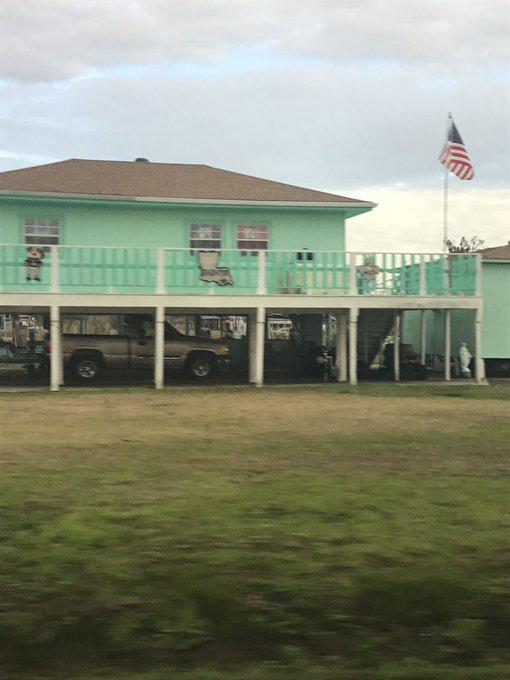affected: (0, 144, 492, 384)
